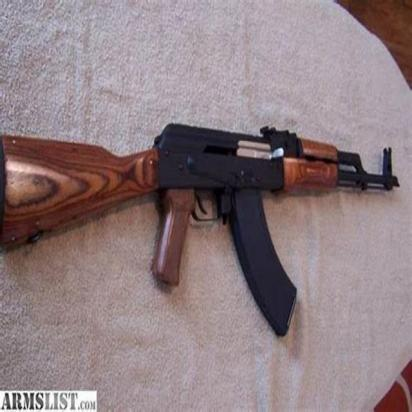Gun: (2, 124, 397, 336)
